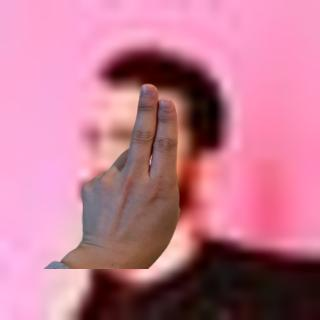DHAVE: (69, 79, 186, 265)
